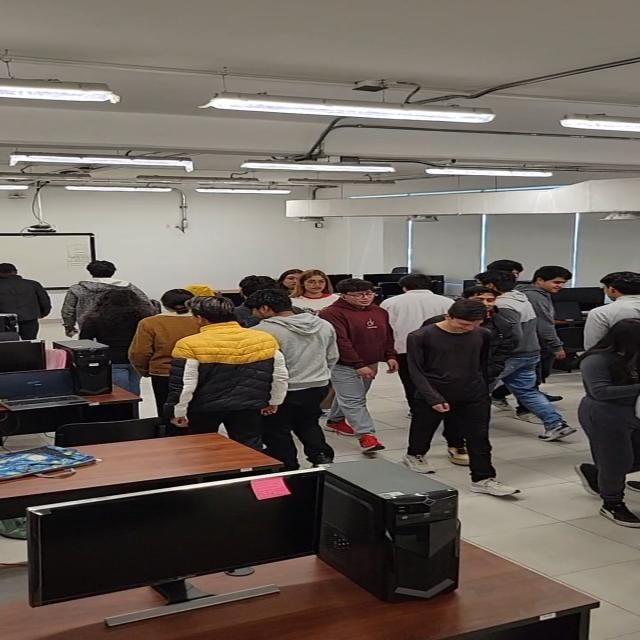Persona: (400, 300, 514, 496), (168, 294, 272, 452), (250, 290, 334, 466), (570, 319, 640, 528), (488, 270, 568, 443), (325, 276, 399, 460), (77, 288, 140, 395), (142, 283, 189, 396)
